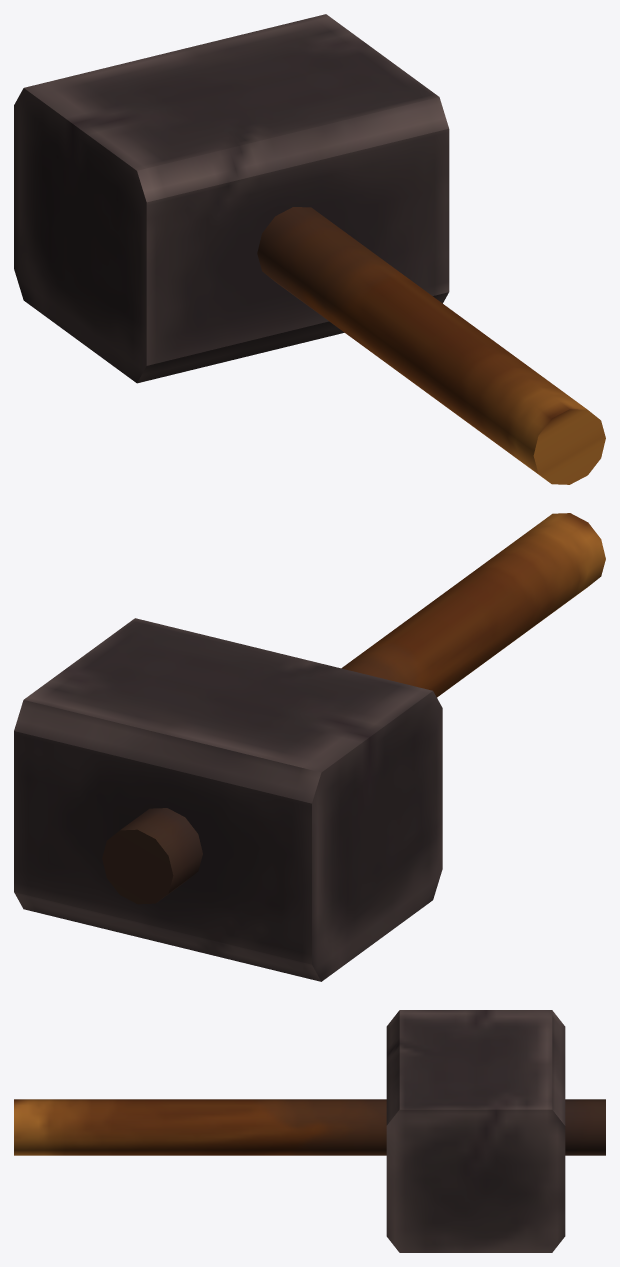
File: smith_3.fbx
The picture shows the model from 3 angles, top to bottom: view 1: azimuth 30°, elevation 25°; view 2: azimuth 150°, elevation 25°; view 3: azimuth 270°, elevation 25°; orthographic projection. The views are drawn at different scales.
Visible parts, largest first — view 1: smith_3; view 2: smith_3; view 3: smith_3.
Part boxes in pixels (left/top/right/bottom): smith_3: left=14, top=14, right=605, bottom=484; smith_3: left=14, top=513, right=605, bottom=981; smith_3: left=14, top=1010, right=605, bottom=1252.
Size of the model in its own units: 0.4845 by 0.3253 by 1.22.
